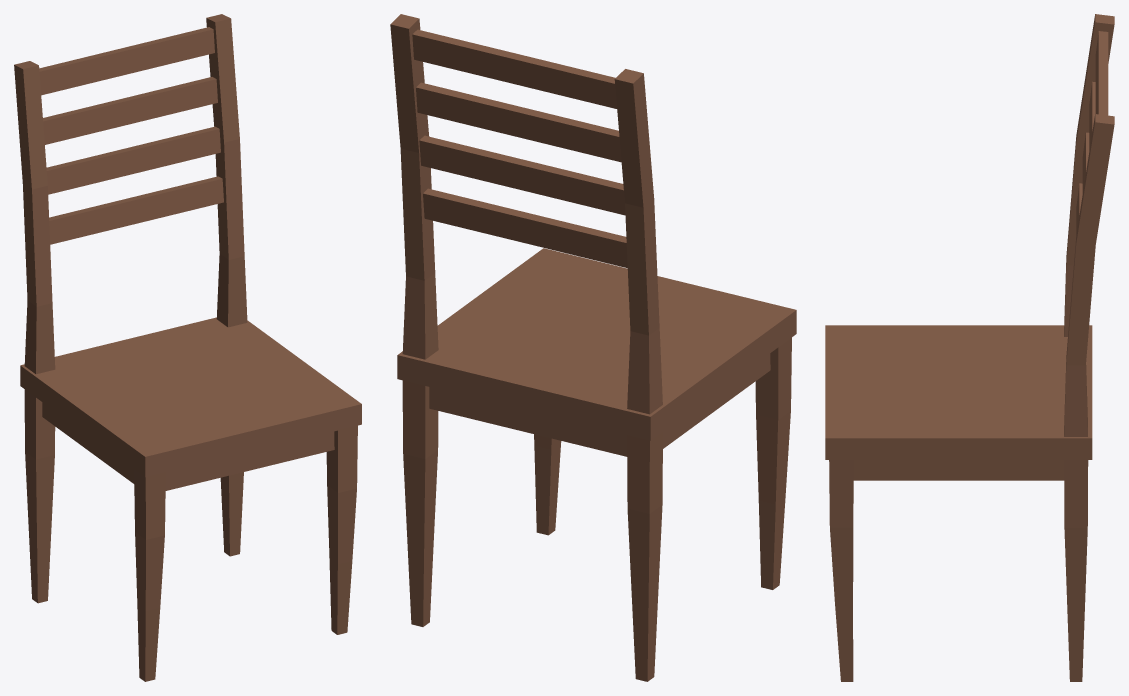
Rendered from chair_sheen.glb.
3 renders of one model, left to right at view 1: azimuth 30°, elevation 25°; view 2: azimuth 150°, elevation 25°; view 3: azimuth 270°, elevation 25°, orthographic. The views are drawn at different scales.
Visible parts, largest first — view 1: Chair_1; view 2: Chair_1; view 3: Chair_1.
Boxes of the visible parts, x1,y1,x2,y2 form: Chair_1: (14,14,361,681); Chair_1: (390,14,796,681); Chair_1: (825,14,1114,681).
Size of the model in its own units: 0.7617 by 1.77 by 0.8254.
